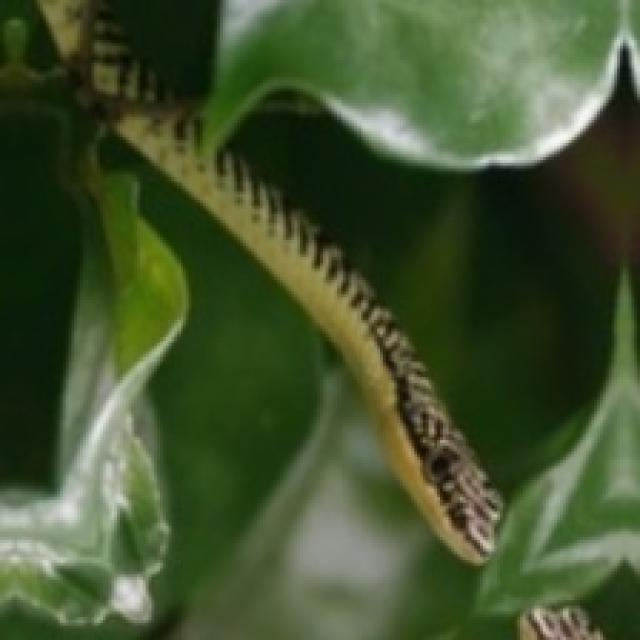paradise tree snake: (0, 0, 637, 637), (111, 123, 506, 569)
